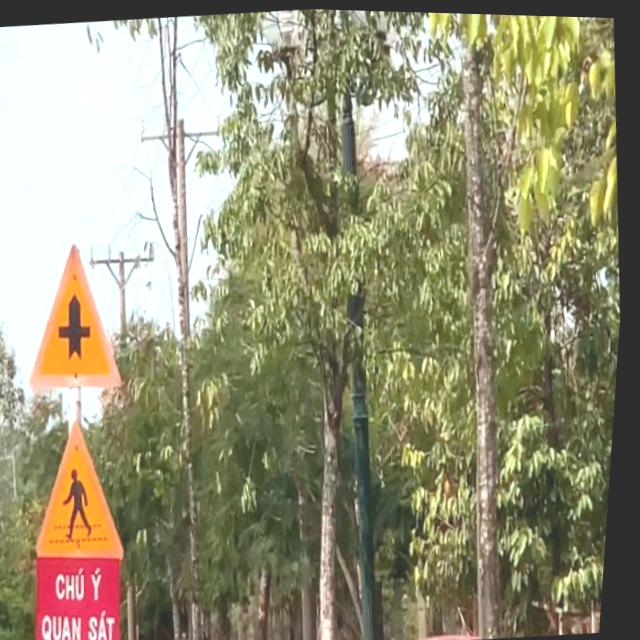Giao nhau voi duong khong uu tien: (17, 234, 137, 397)
Nguoi di bo cat ngang: (28, 413, 141, 570)
